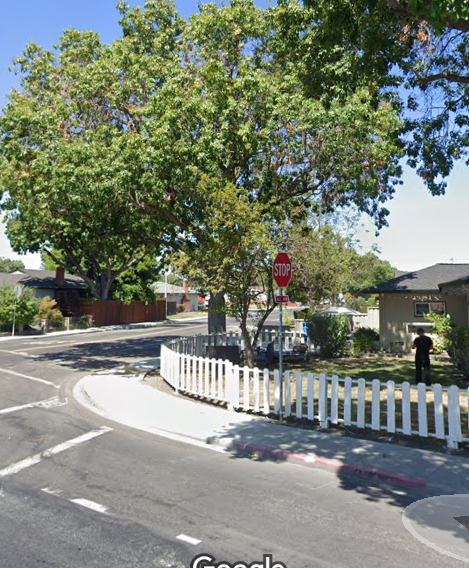stop_sign: (274, 253, 293, 287)
